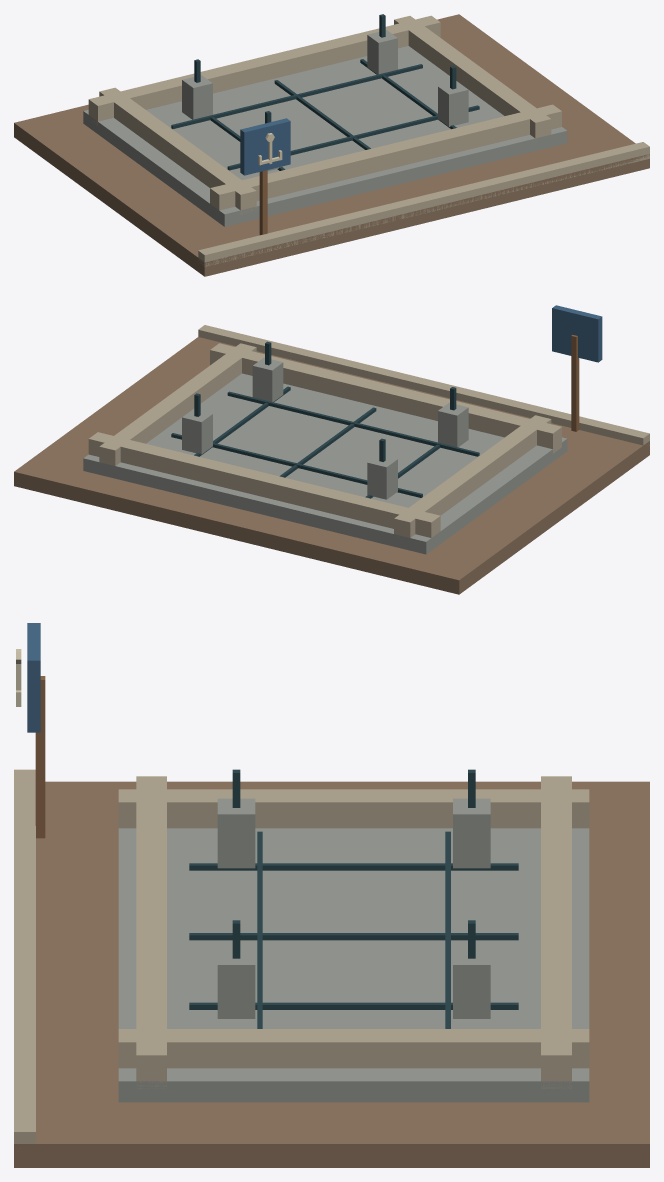
The model's file is harbor-seabreeze-foundation.glb.
3 renders of one model, top to bottom at view 1: azimuth 30°, elevation 25°; view 2: azimuth 150°, elevation 25°; view 3: azimuth 270°, elevation 25°, orthographic. The views are drawn at different scales.
Visible parts, largest first — view 1: harbor; view 2: harbor; view 3: harbor.
Boxes of the visible parts, x1,y1,x2,y2 form: harbor: (14,14,649,276); harbor: (14,305,649,594); harbor: (14,623,649,1167).
Size of the model in its own units: 3.88 by 1.09 by 2.88.
